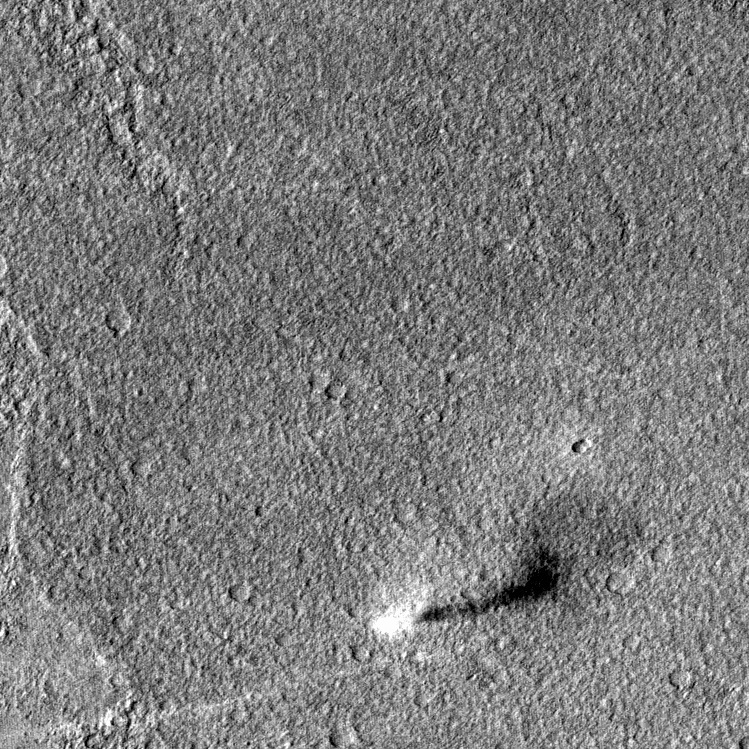dust_devil: (367, 493, 643, 640)
